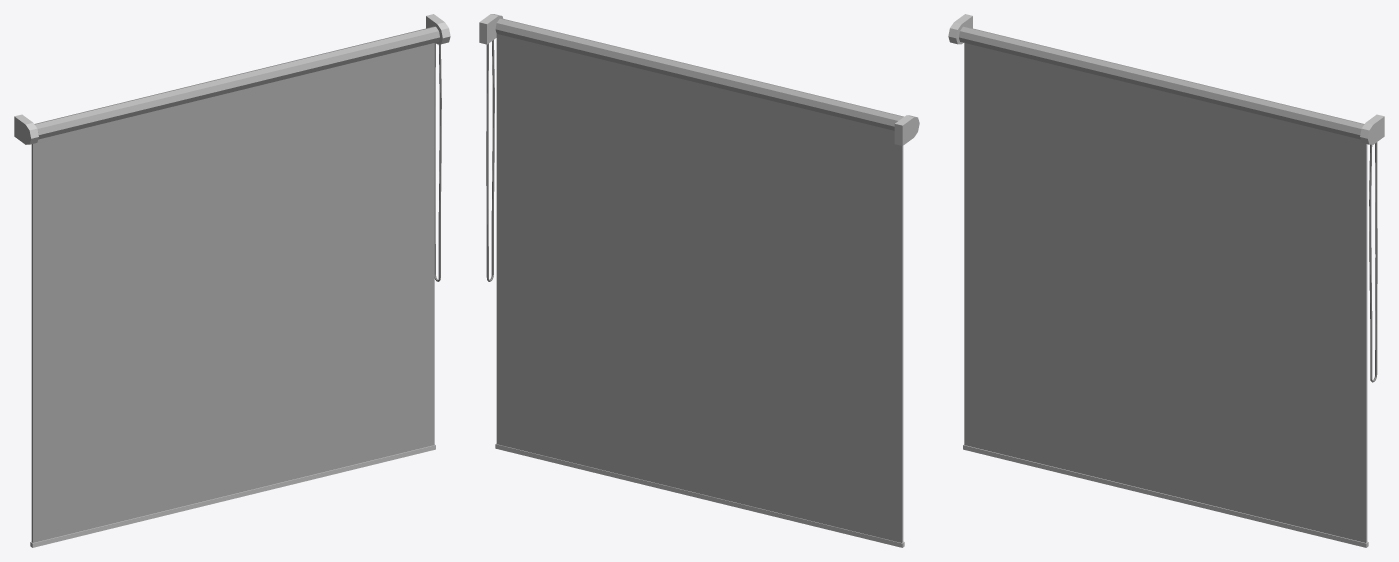
File: Curtains8_C3.fbx
3 views of the same model, side by side, from view 1: azimuth 30°, elevation 25°; view 2: azimuth 150°, elevation 25°; view 3: azimuth 330°, elevation 25° (orthographic).
Visible parts, largest first — view 1: Curtains8_C3; view 2: Curtains8_C3; view 3: Curtains8_C3.
Part boxes in pixels (x1,y1,x2,y2): Curtains8_C3: [14, 14, 450, 547]; Curtains8_C3: [479, 14, 919, 547]; Curtains8_C3: [948, 14, 1384, 547].
Bounding box in the file's own units: 137 × 133 × 9.55.
